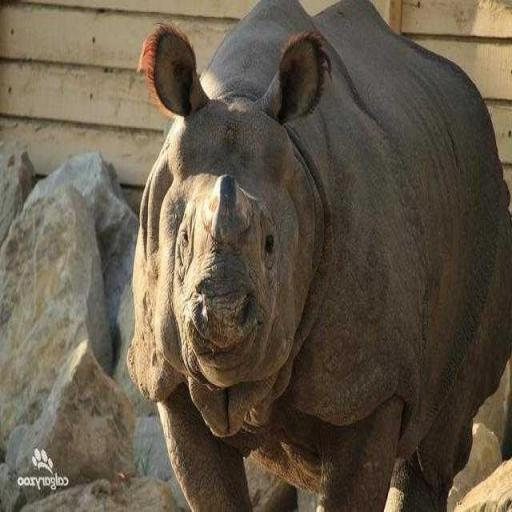Rhino: (126, 0, 512, 511)
